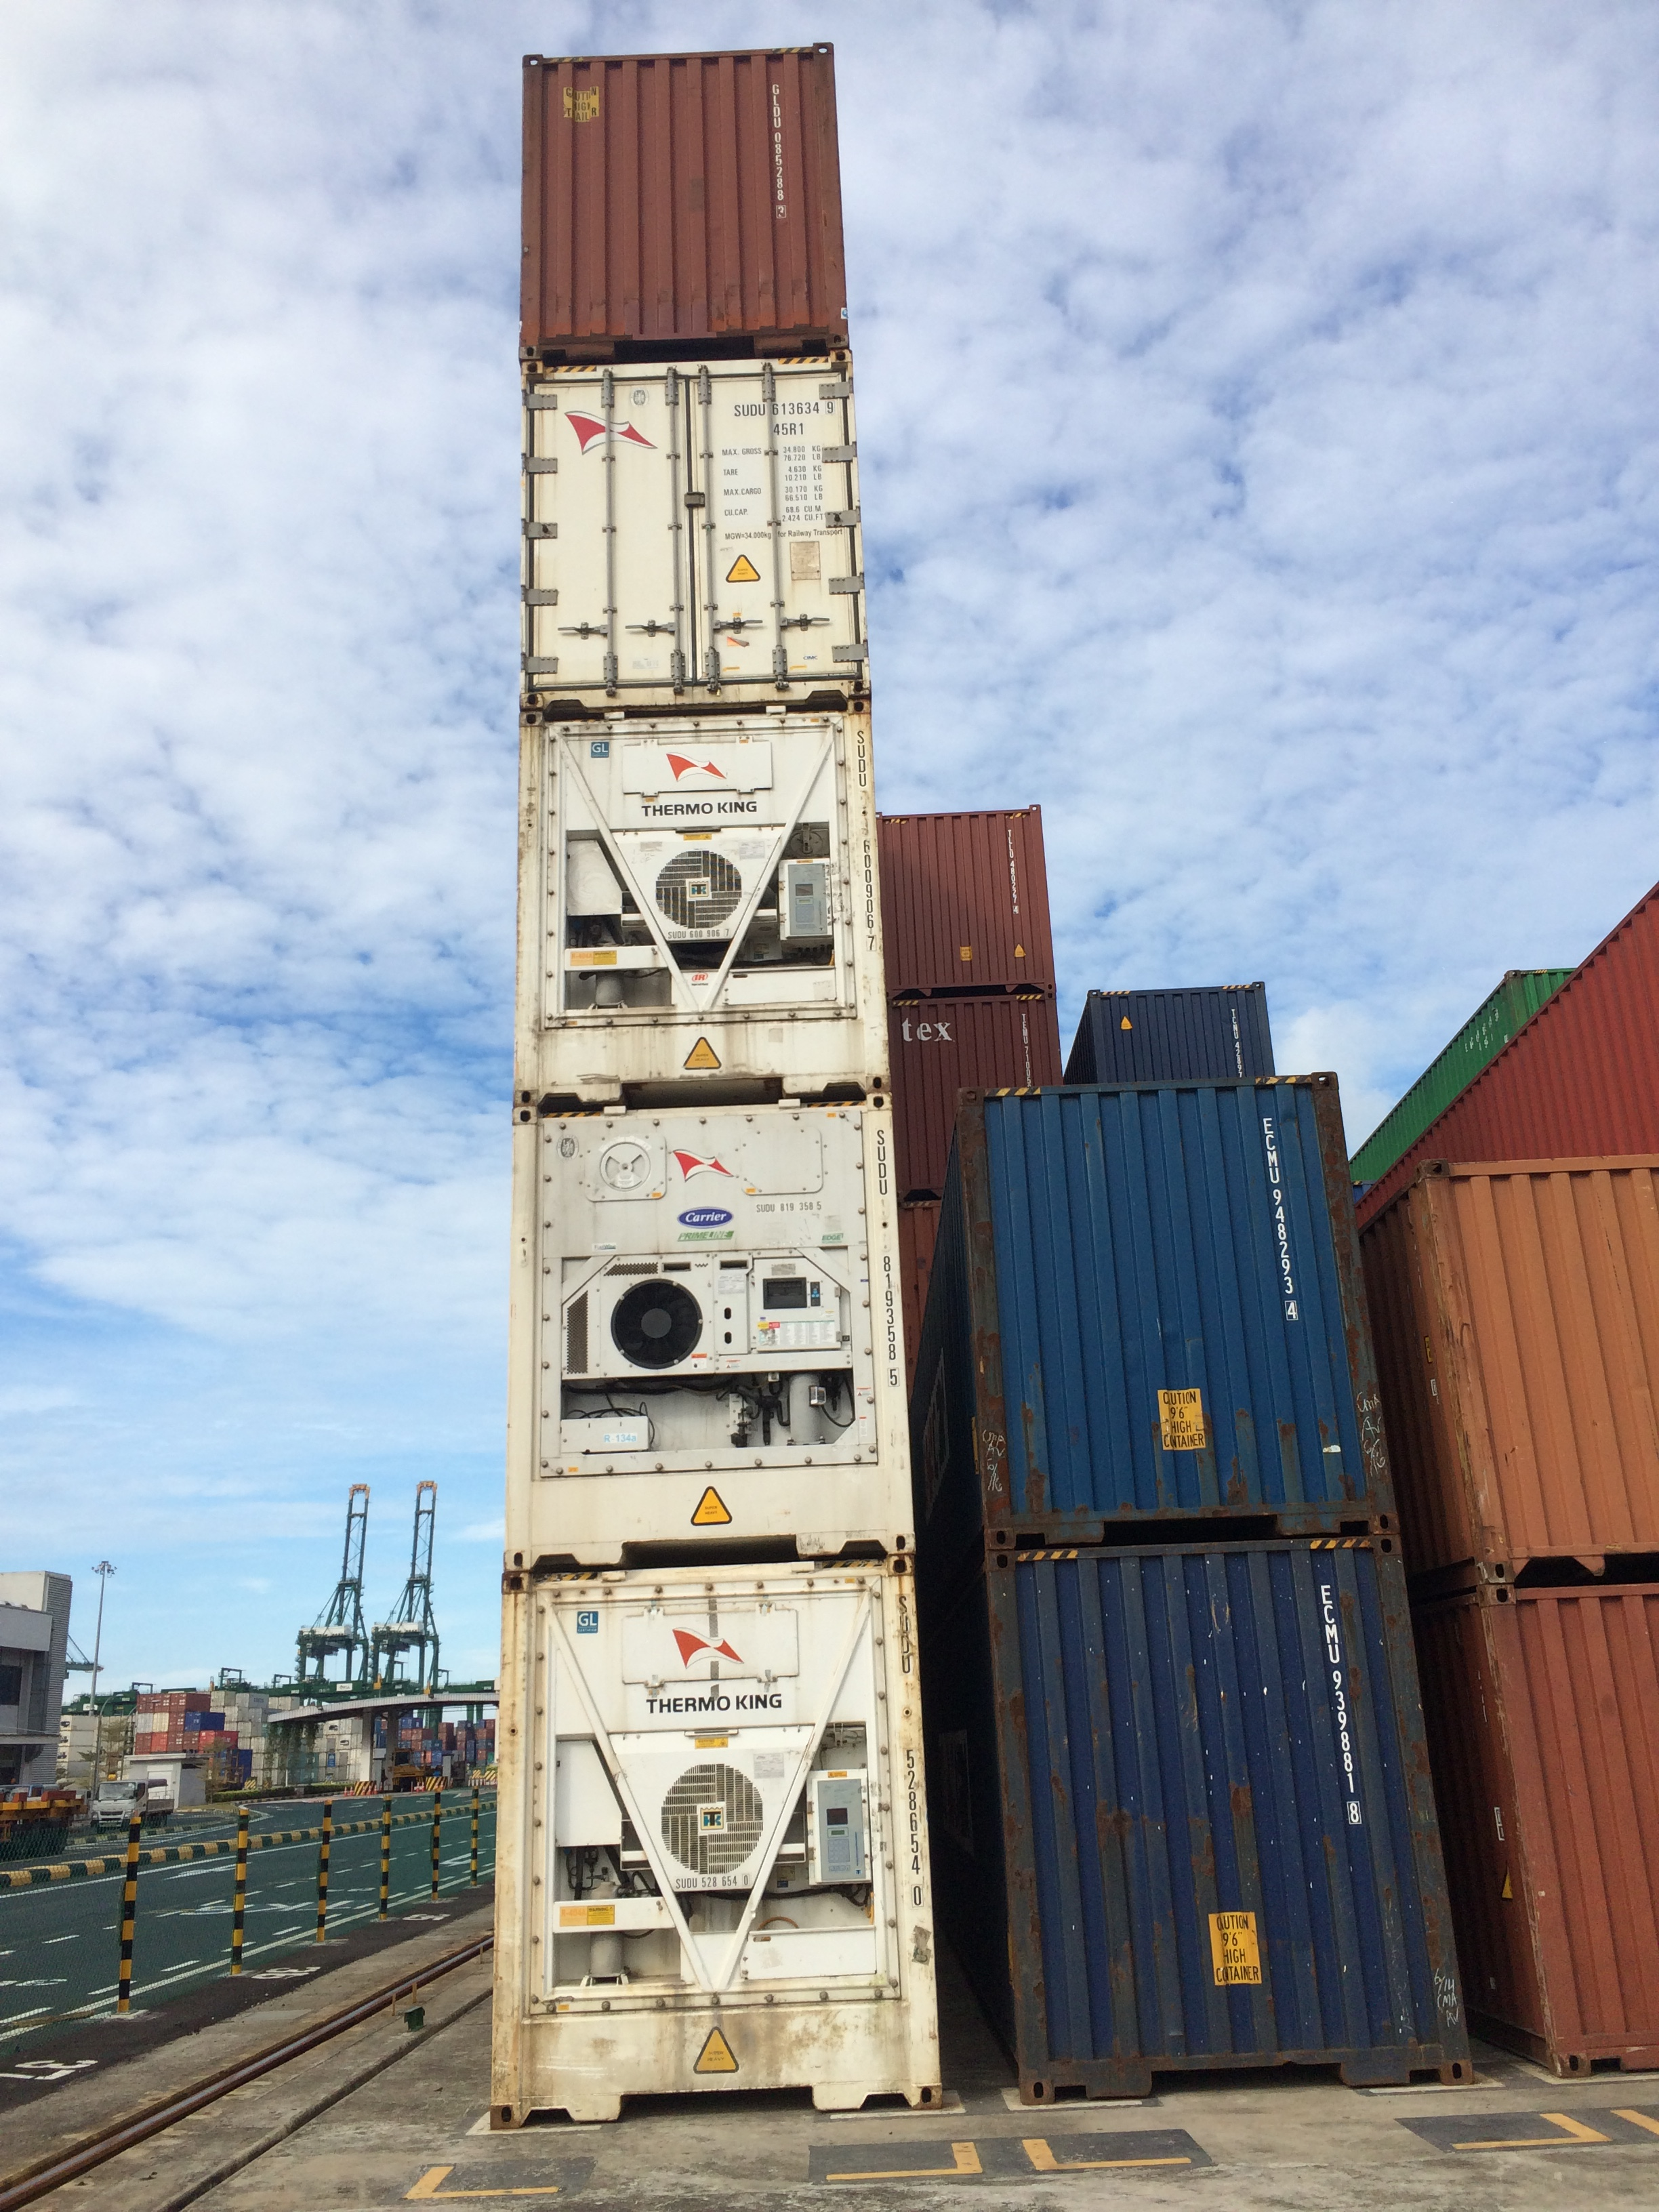container_door: (528, 359, 866, 705)
container_no_door: (978, 1547, 1480, 2104), (951, 1071, 1391, 1548), (512, 40, 852, 362), (1422, 1158, 1659, 1587), (1453, 1585, 1659, 2064), (885, 803, 1063, 995), (885, 993, 1061, 1184)
